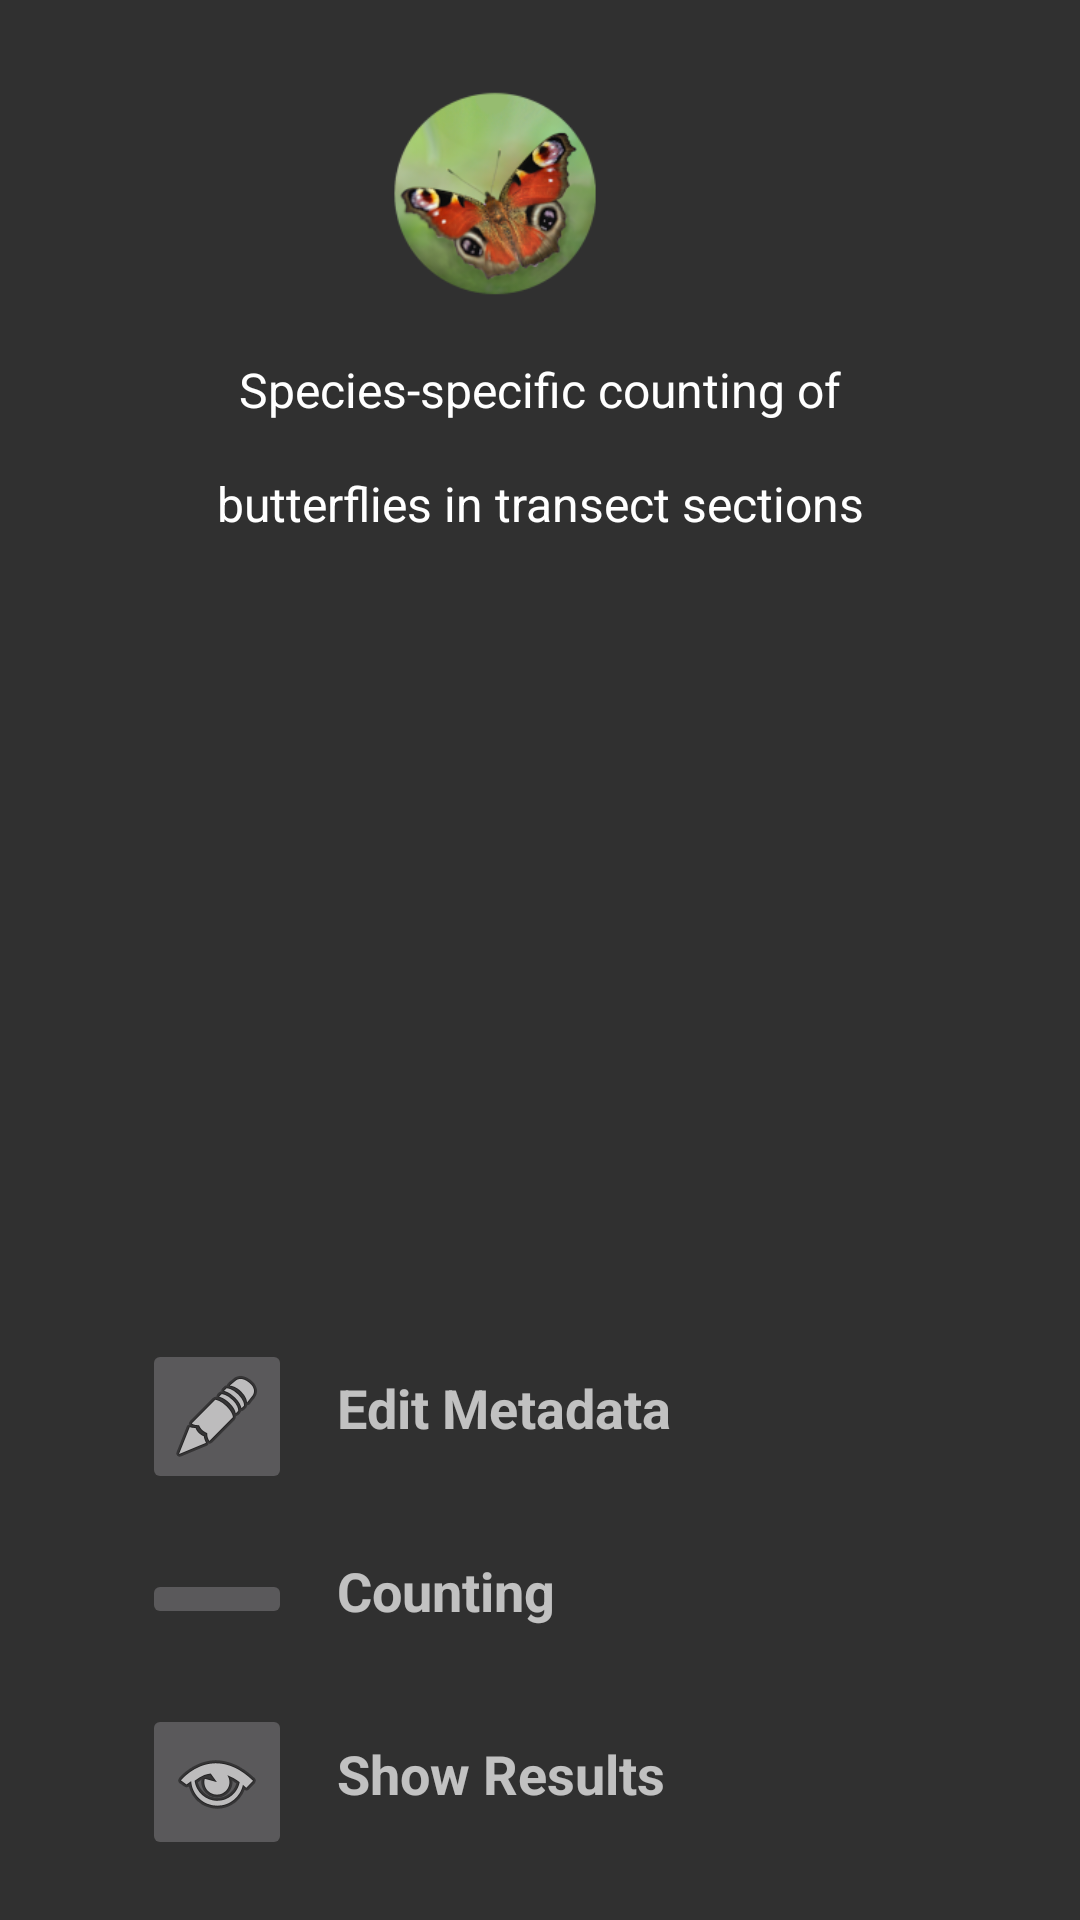

Icons on this 1080 x 1920 Android screen, each with its box as (left=x1, top=y1, right=x2, bottom=y2):
view: (left=154, top=1722, right=280, bottom=1842)
